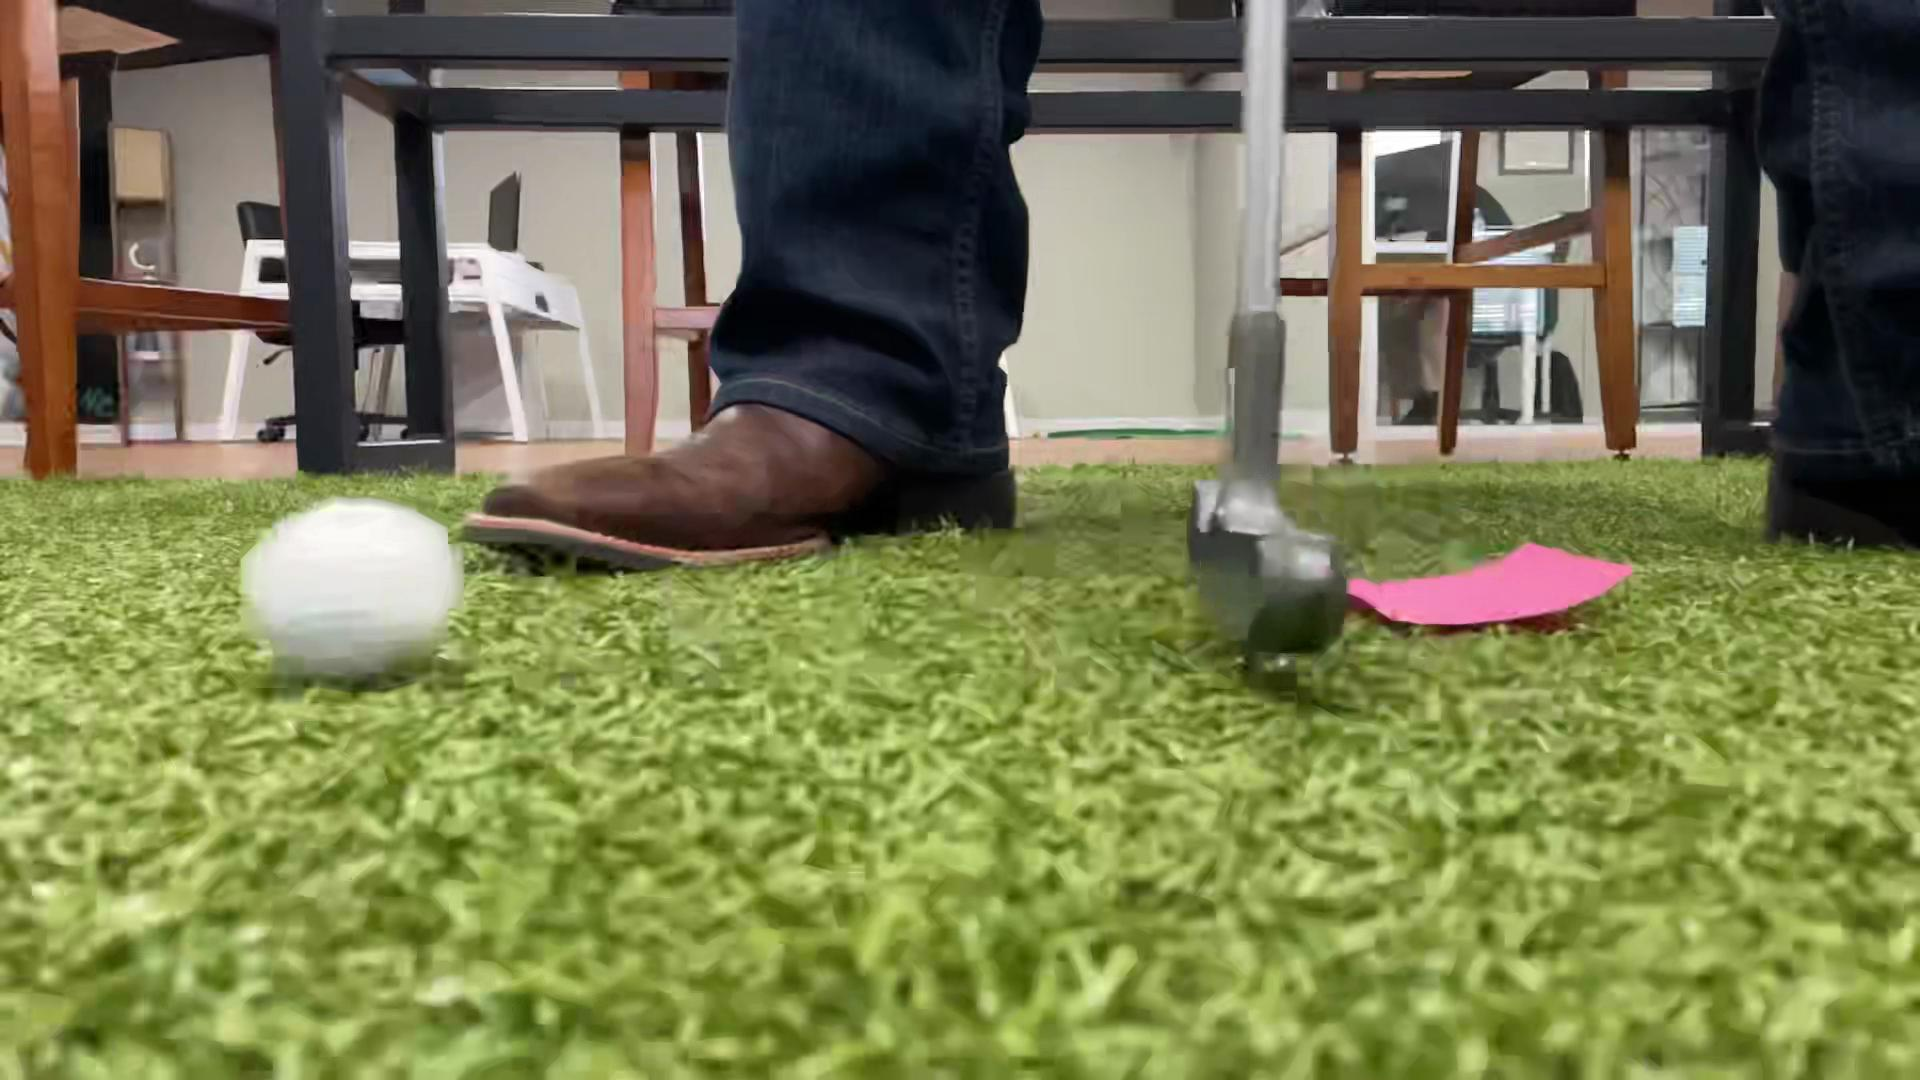golfball: (239, 503, 458, 682)
